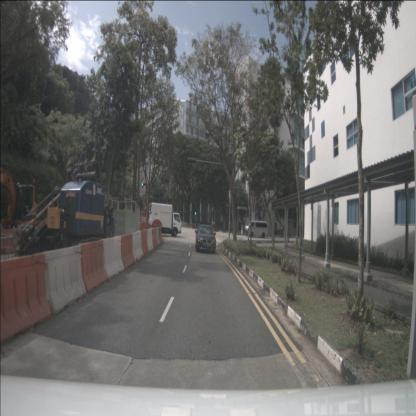barrier: (0, 252, 52, 343), (42, 244, 87, 317), (80, 239, 108, 294), (102, 236, 125, 280), (0, 228, 23, 254), (121, 233, 135, 270), (132, 230, 144, 262), (141, 229, 150, 256), (147, 229, 154, 252), (152, 228, 158, 248), (156, 227, 162, 246), (140, 223, 149, 233), (159, 226, 163, 244)
